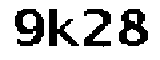2: (79, 6, 116, 51)
8: (118, 5, 152, 50)
9: (12, 5, 44, 49)
k: (46, 3, 78, 53)
